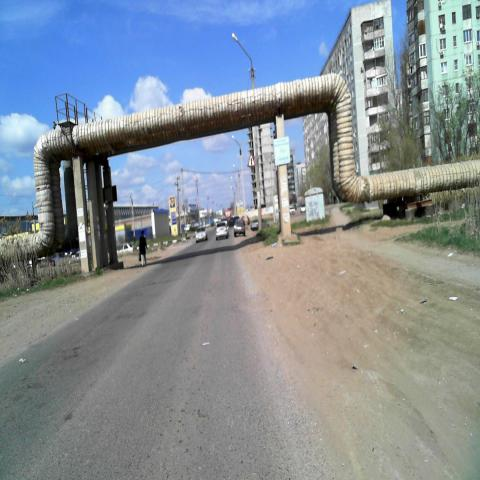2_3_2: (247, 154, 255, 167)
